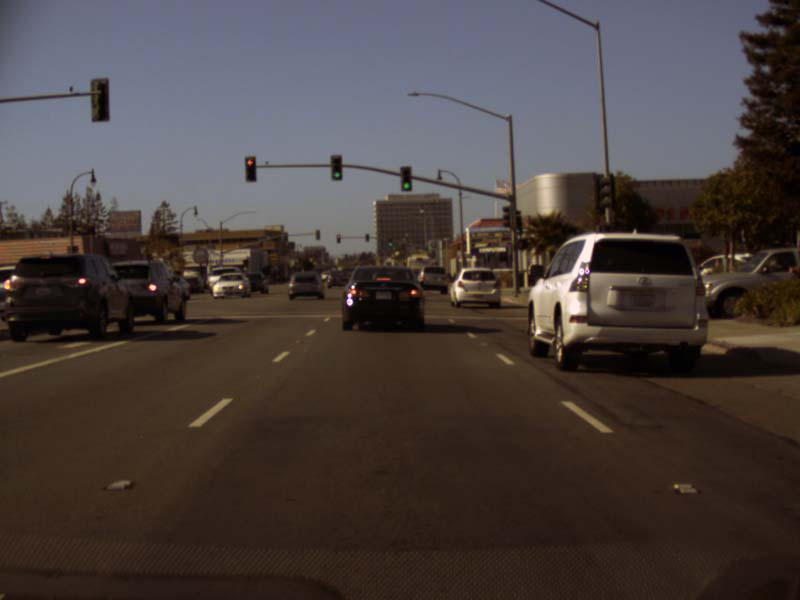Green: (330, 155, 341, 179), (400, 166, 411, 190), (515, 216, 521, 232), (388, 238, 392, 246)
Red: (244, 156, 256, 181), (336, 234, 340, 243)
